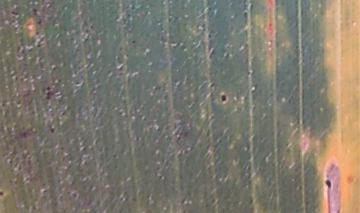tarspot: (218, 91, 229, 105), (206, 46, 216, 60), (322, 178, 333, 189), (45, 85, 51, 101), (8, 9, 19, 17), (35, 18, 43, 27), (49, 125, 56, 135), (31, 7, 38, 17), (130, 38, 137, 46), (71, 191, 78, 199), (34, 30, 40, 37), (1, 189, 5, 198)
